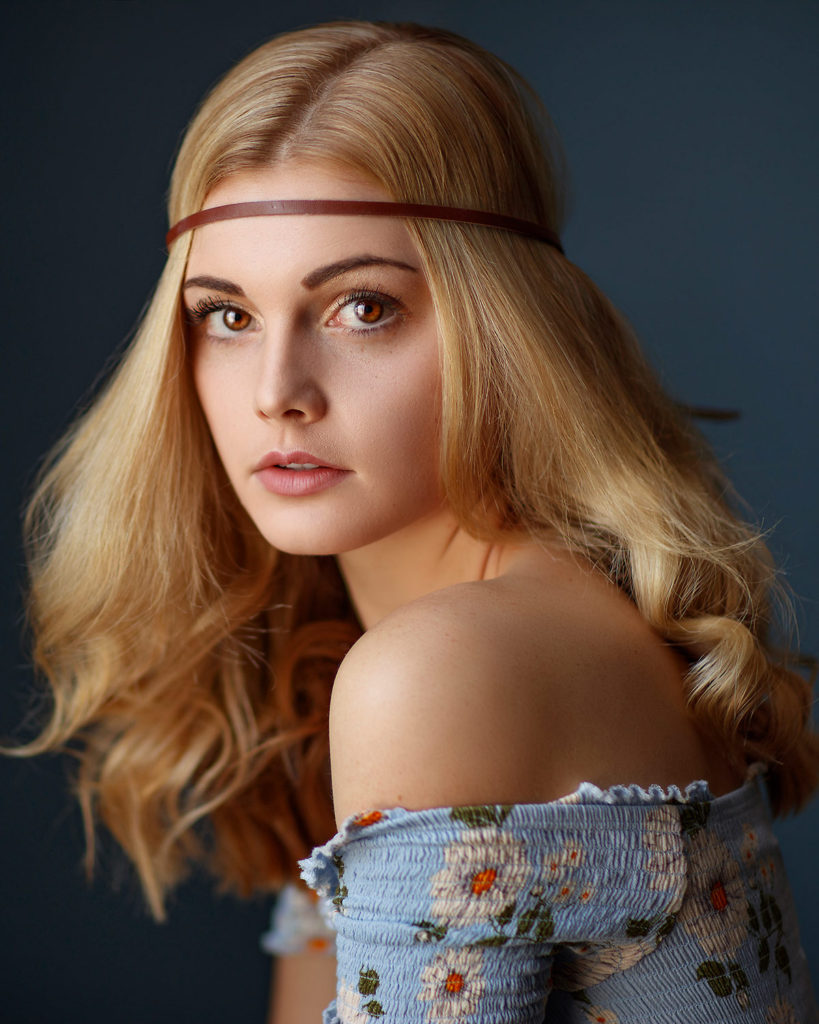bare: (200, 358, 451, 552)
